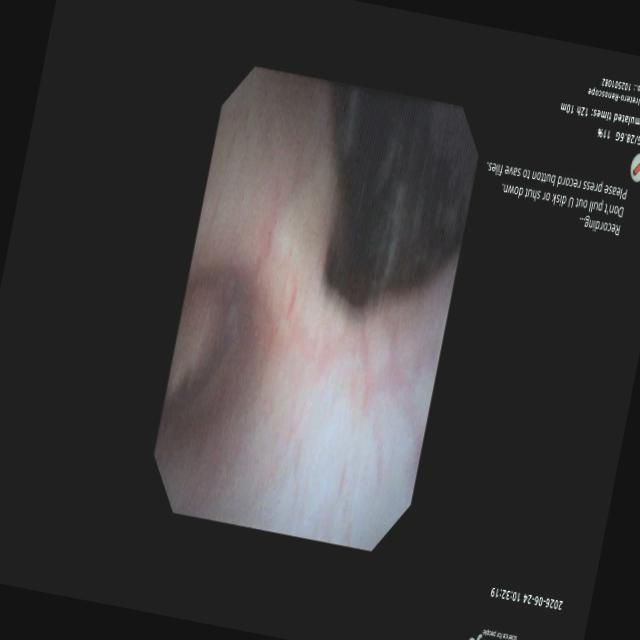stone-new: (325, 87, 476, 309)
